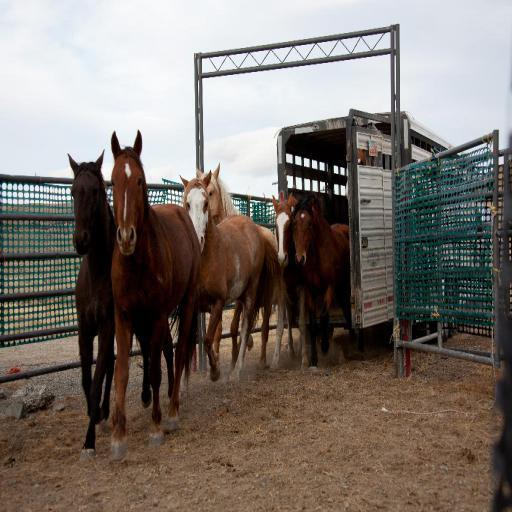horse: (66, 128, 350, 461)
